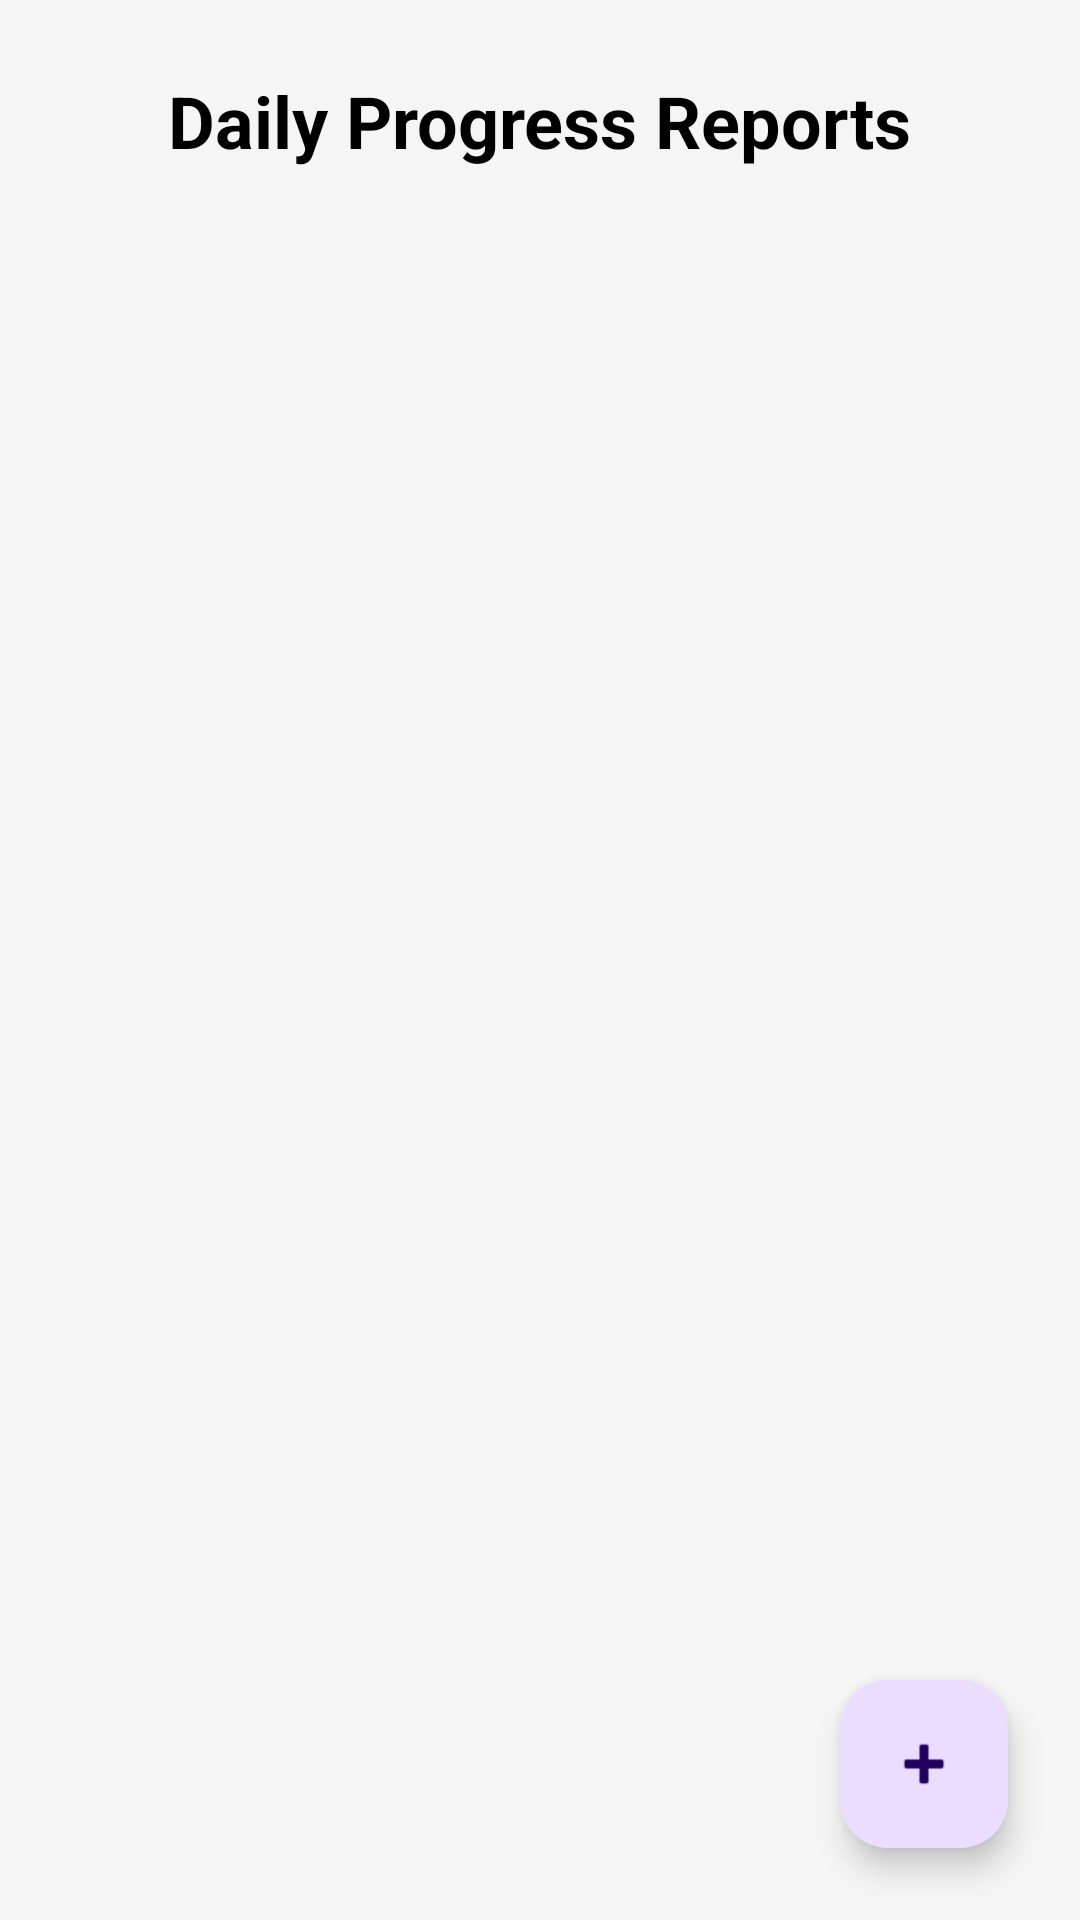

Screen size 1080×1920. Icon name, then its box in pixels as bbox=[x1, y1, x2, y2]:
Create New Report: bbox=[840, 1680, 1008, 1848]
